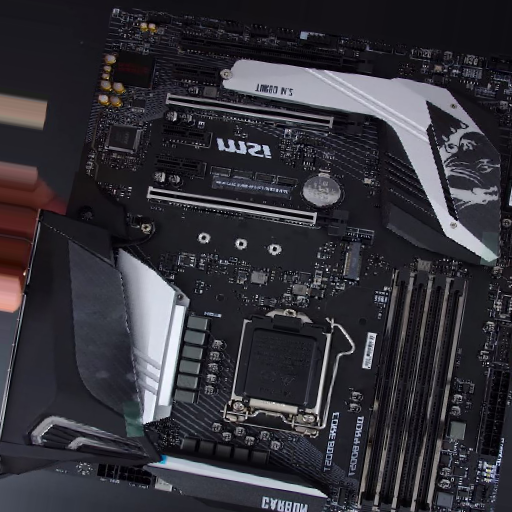CPU: (225, 305, 333, 428)
GPU: (145, 184, 352, 241), (160, 93, 364, 142), (177, 32, 374, 76)
MOTHERBOARD: (11, 4, 506, 508)
RAM: (359, 266, 468, 510)
SSD: (340, 242, 365, 281)
